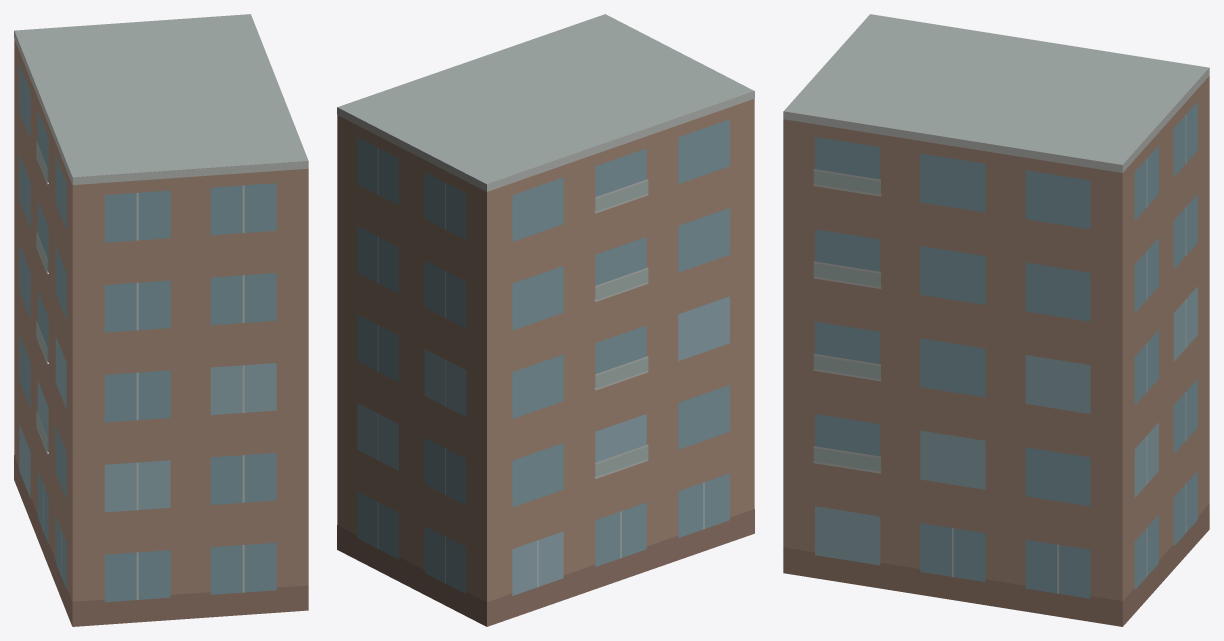
The model's file is survey-upis-32930158.glb.
3 renders of one model, left to right at view 1: azimuth 30°, elevation 25°; view 2: azimuth 150°, elevation 25°; view 3: azimuth 270°, elevation 25°, orthographic. The views are drawn at different scales.
Visible parts, largest first — view 1: survey-upis-32930158.tmp; view 2: survey-upis-32930158.tmp; view 3: survey-upis-32930158.tmp.
Part boxes in pixels (x1,y1,x2,y2): survey-upis-32930158.tmp: [14, 14, 308, 626]; survey-upis-32930158.tmp: [337, 14, 754, 626]; survey-upis-32930158.tmp: [783, 14, 1209, 626].
Size of the model in its own units: 9.97 by 14.2 by 11.88.
